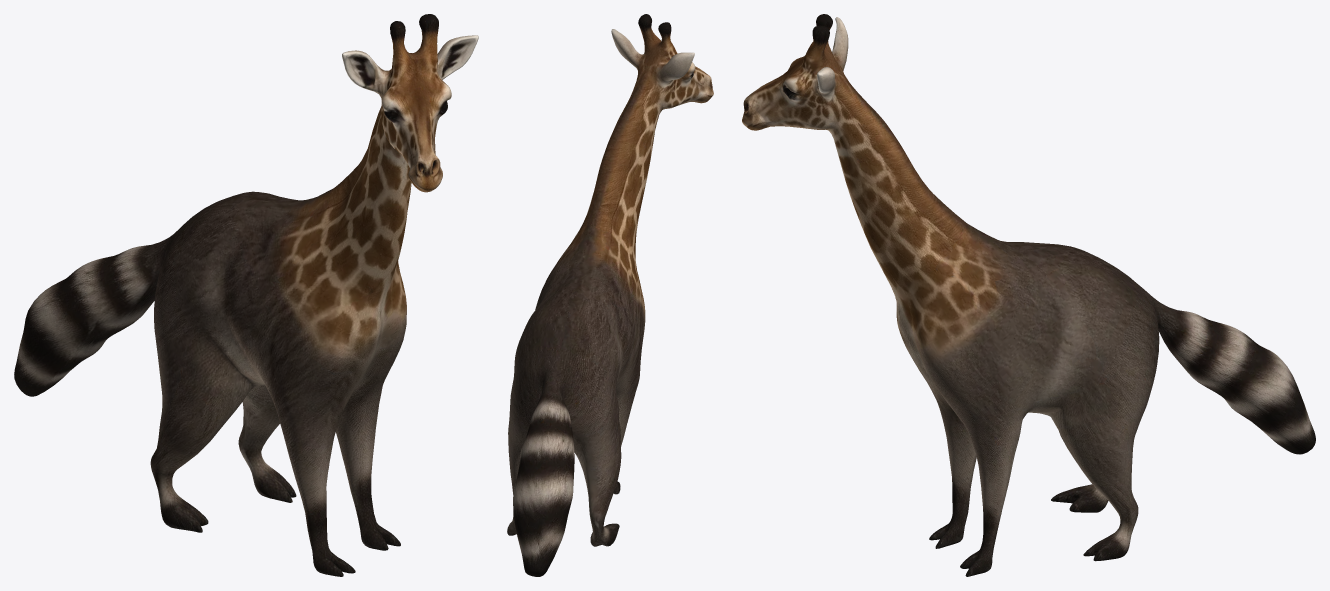
The model's file is giraffcoon.glb.
3 views of the same model, side by side, from view 1: azimuth 30°, elevation 25°; view 2: azimuth 150°, elevation 25°; view 3: azimuth 270°, elevation 25° (orthographic). The views are drawn at different scales.
Bounding box in the file's own units: 0.6543 × 1.9 × 1.87.
Materials: 1 (1 with a texture image).
